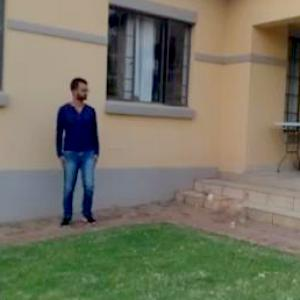follow: (70, 84, 114, 230)
